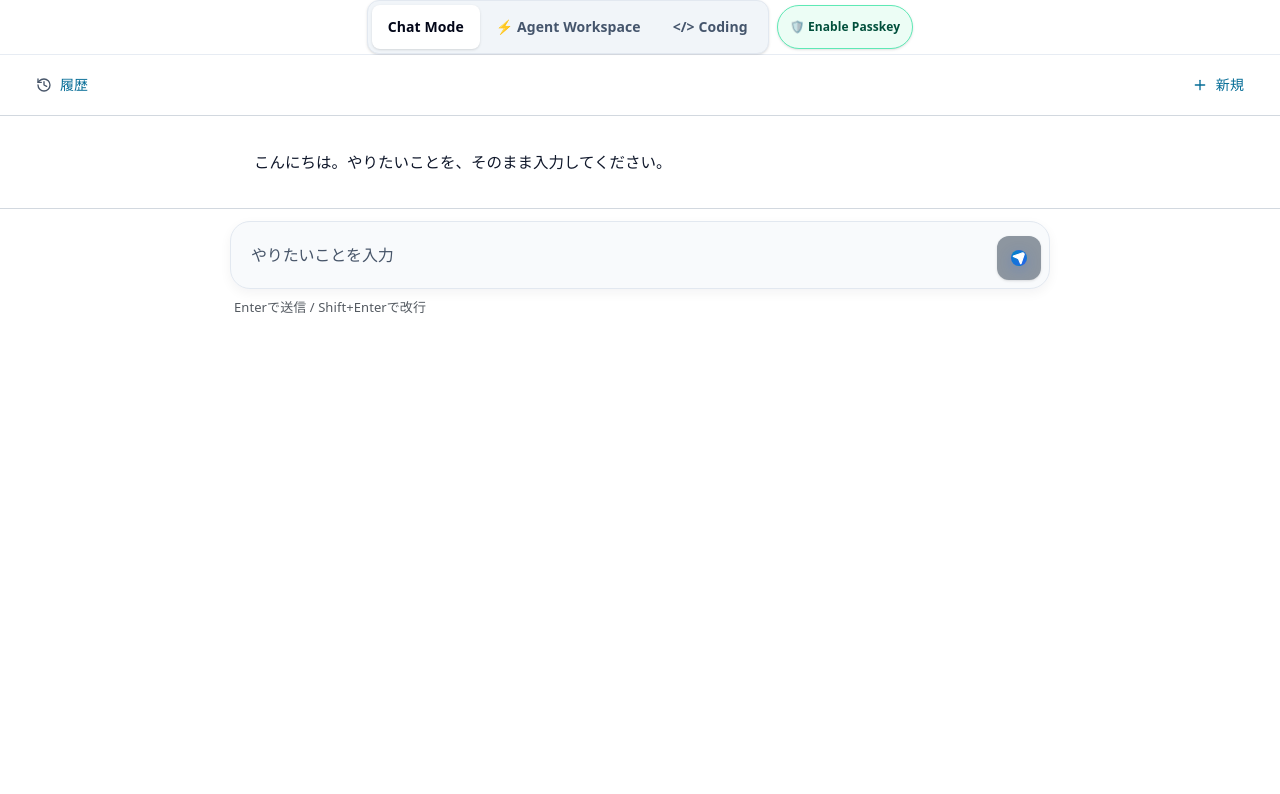
Scenario: UnifiedChat › distinguishes mixed source checks from an independent review decision
Type "確認範囲を表示してください" into the text box with placeholder "やりたいことを入力". click: (614, 255)
box: top-left (239, 230), bottom-right (989, 280)
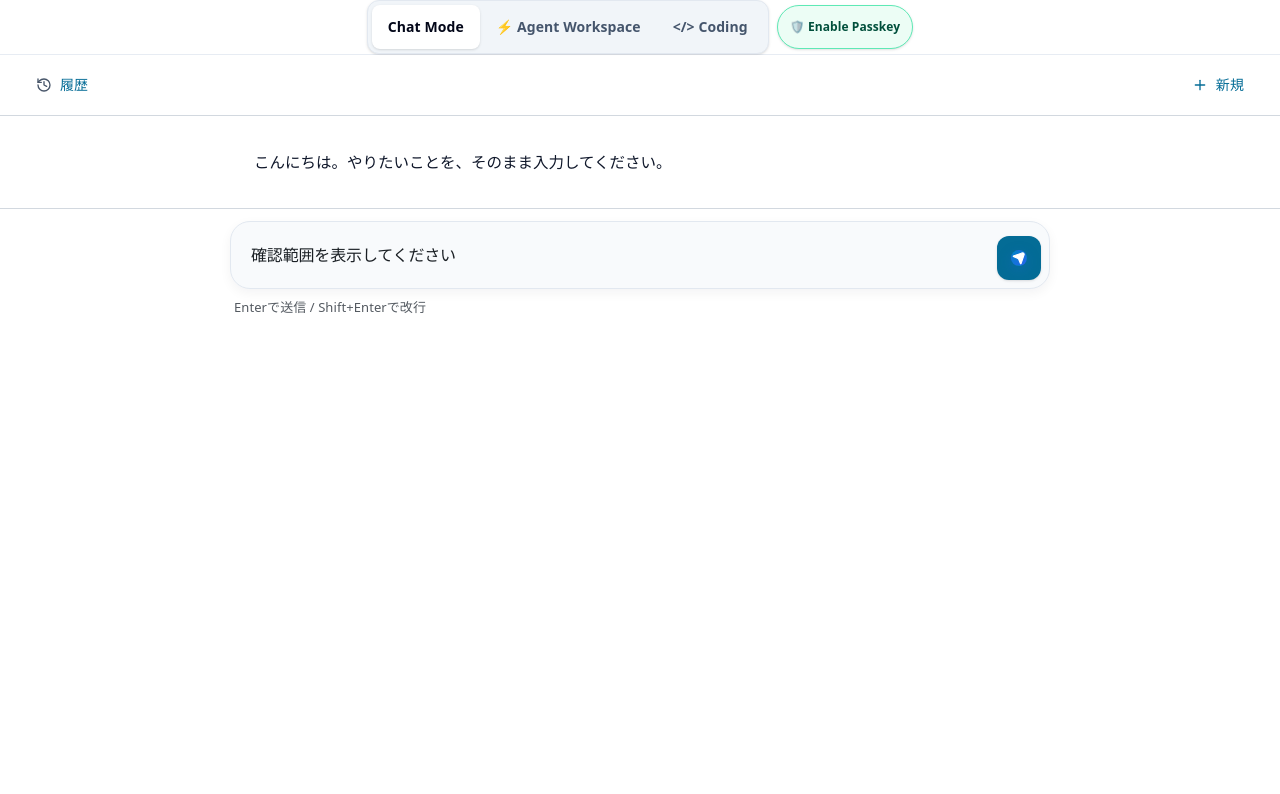
Click the button named "依頼を送信". click: (1019, 258)
box: top-left (997, 236), bottom-right (1041, 280)
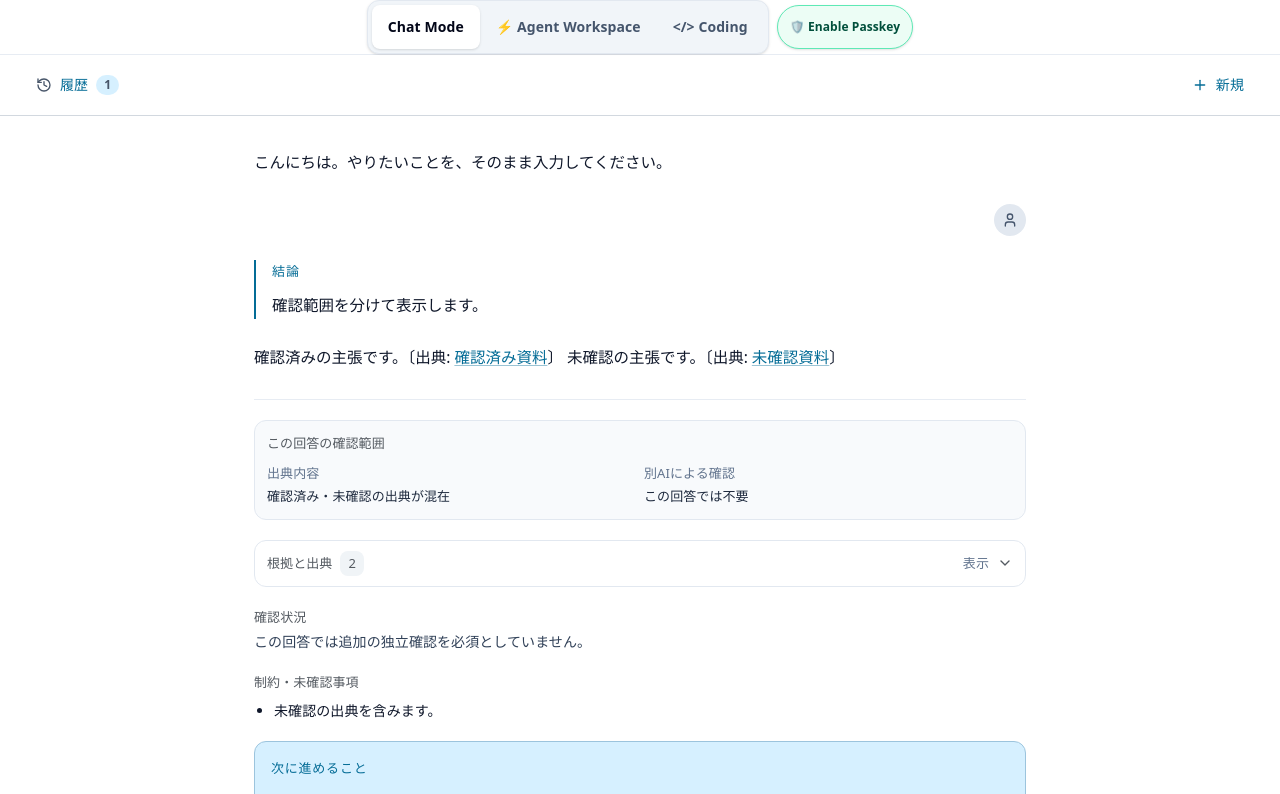
Now the text "確認済み・未確認の出典が混在" is shown, box top-left (267, 487), bottom-right (450, 505)
Now the text "この回答では不要" is shown, box top-left (644, 487), bottom-right (749, 505)
